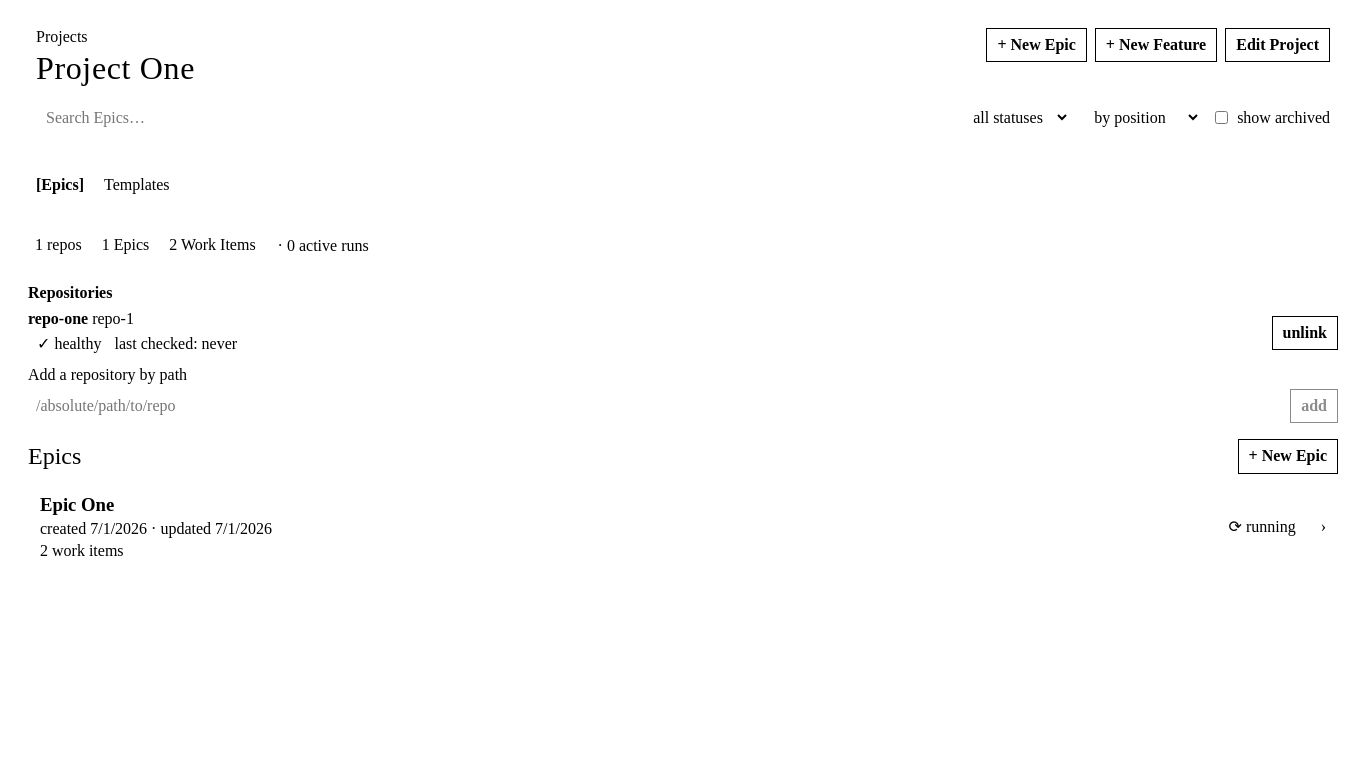
Scenario: toggle archived epics in ProjectDetailPage (PF-17) › queries archived epics on toggle-on and renders them with a Restore action; active epic list unchanged
// Toggle on
Click the checkbox named "Show archived Epics" at (1222,118), box [1215,111,1228,124]
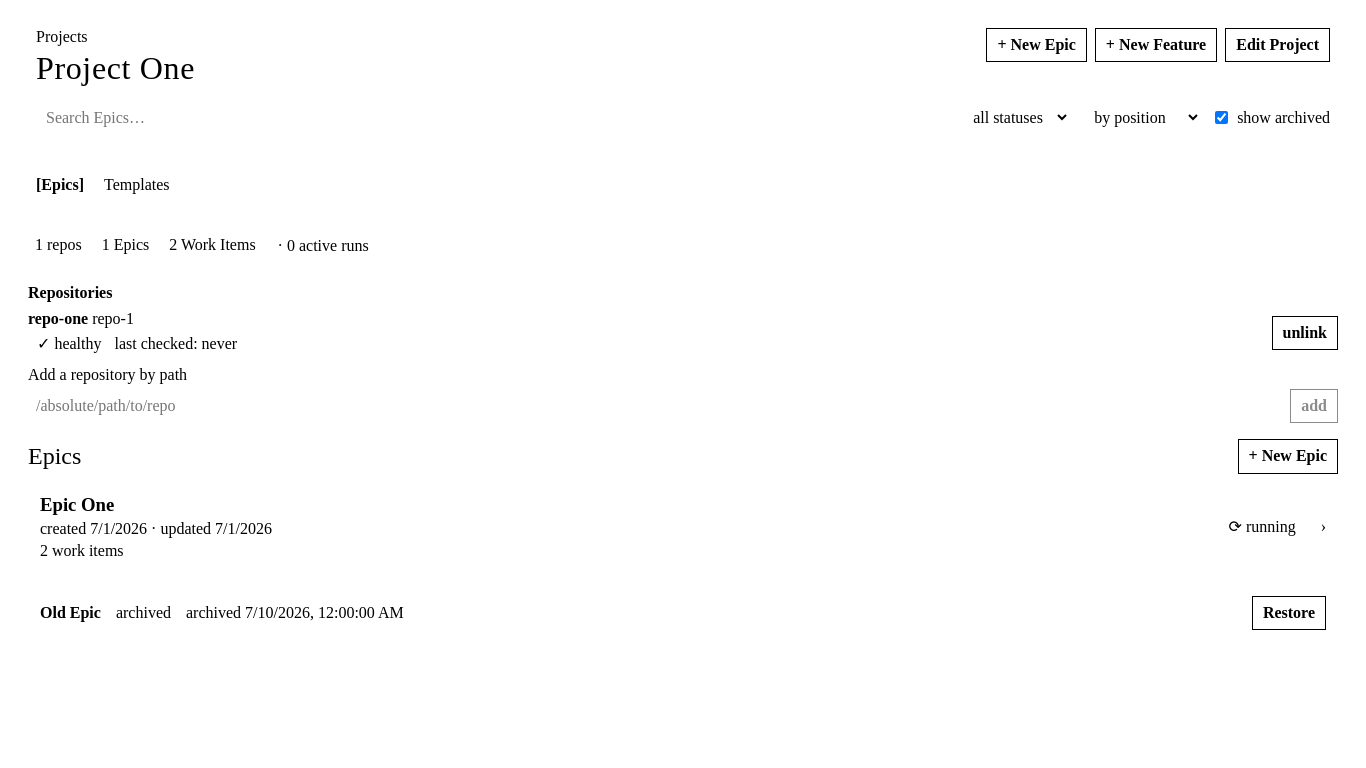
Now the element showing "Old Epic archived archived 7/10/2026, 12:00:00 AM Restore" is shown, box [40,596,1326,630]
Now the button "Restore" is shown, box [1252,596,1326,630]
